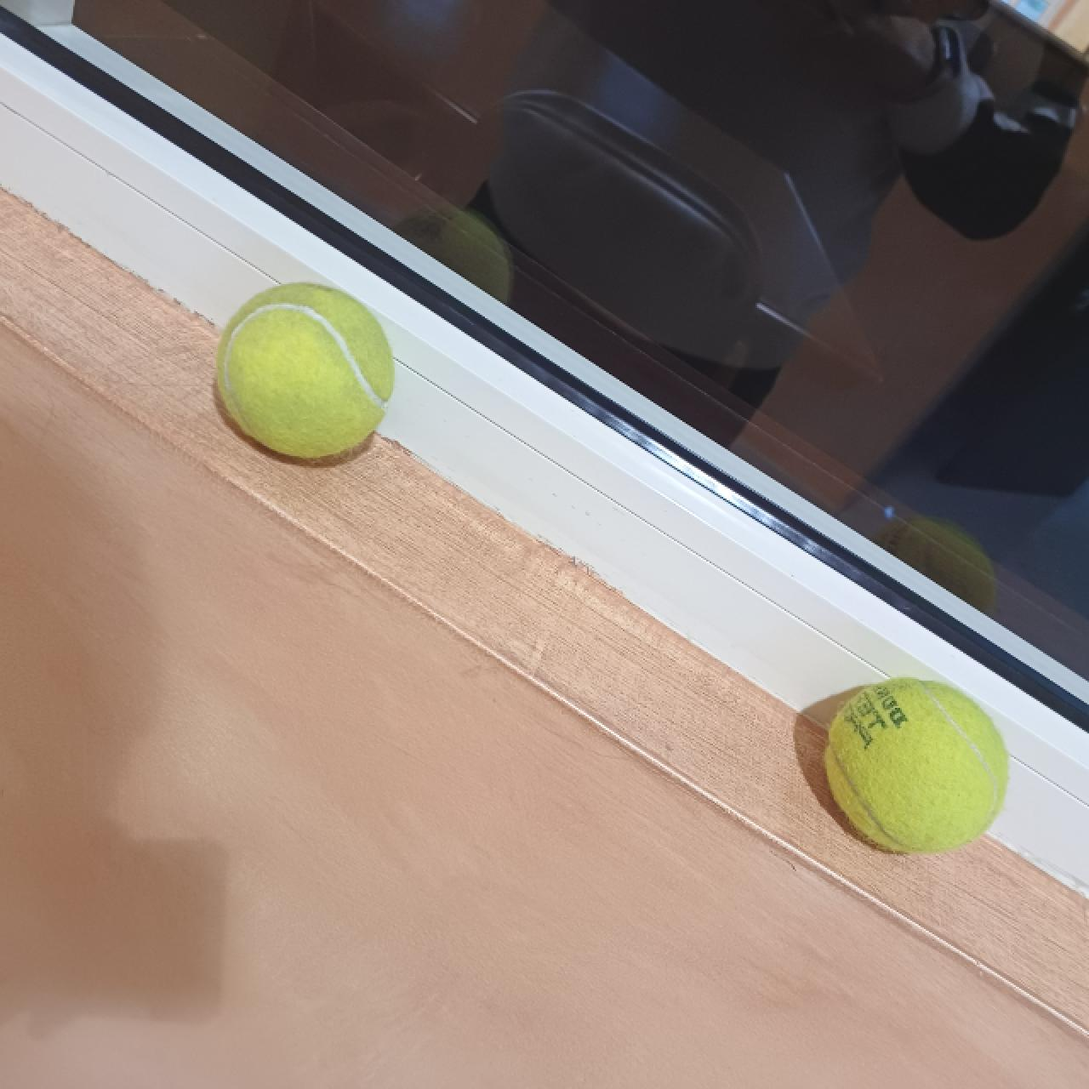tennis-ball: (817, 673, 1008, 855), (217, 282, 392, 459)
